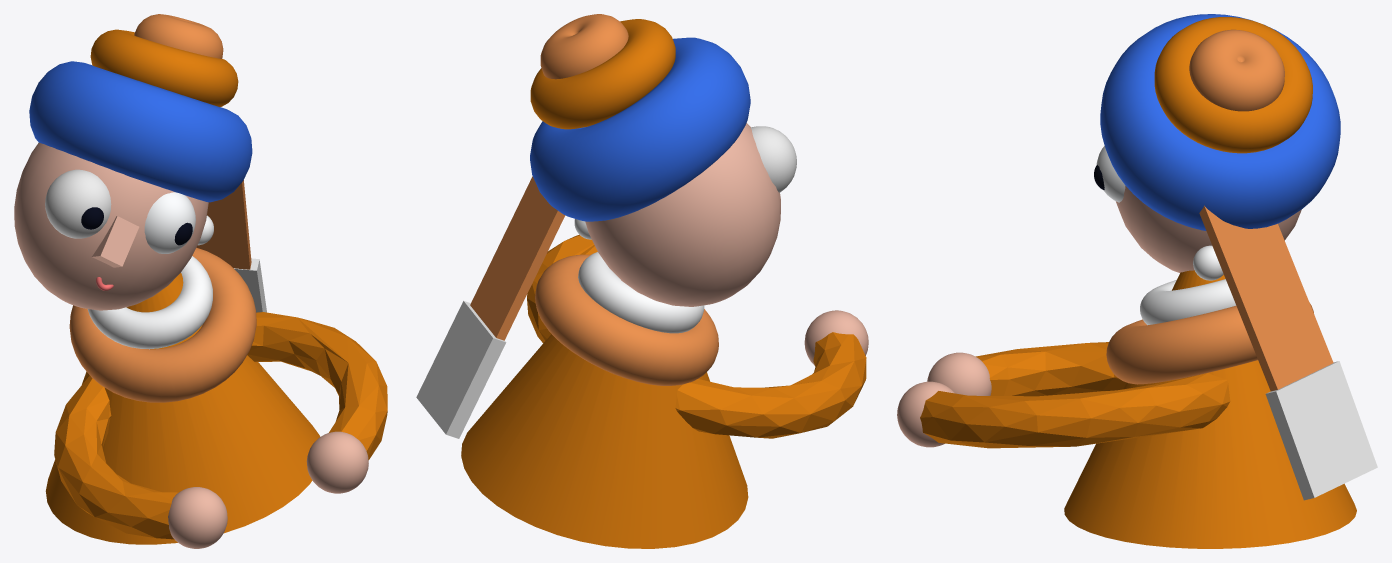
File: girl3.glb
The picture shows the model from 3 angles, left to right: view 1: azimuth 30°, elevation 25°; view 2: azimuth 150°, elevation 25°; view 3: azimuth 270°, elevation 25°; orthographic projection. The views are drawn at different scales.
Parts seen in each view (by area): view 1: 锥体, 环体.005, 环体.003, 球体, 环体.014, 环体.001, 环体.002, 球体.002, 球体.007, 球体.006, 立方体.001, 环体.012 (+3 smaller); view 2: 锥体, 环体.005, 球体, 环体.003, 环体.014, 环体.001, 立方体.001, 立方体.002, 环体.002, 环体.012, 球体.002, 球体.006; view 3: 锥体, 环体.005, 环体.003, 立方体.001, 环体.001, 立方体.002, 环体.014, 环体.012, 球体, 环体.002, 球体.006, 球体.007 (+2 smaller).
Part boxes in pixels (<box>): 锥体: <box>45,273,320,544</box>; 环体.005: <box>29,61,252,202</box>; 环体.003: <box>54,312,387,539</box>; 球体: <box>14,142,208,310</box>; 环体.014: <box>69,247,256,402</box>; 环体.001: <box>90,29,238,106</box>; 环体.002: <box>87,256,212,349</box>; 球体.002: <box>45,169,111,238</box>; 球体.007: <box>306,431,368,493</box>; 球体.006: <box>168,487,227,548</box>; 立方体.001: <box>196,180,251,269</box>; 环体.012: <box>134,14,223,58</box>; 锥体: <box>461,334,748,548</box>; 环体.005: <box>530,37,750,221</box>; 球体: <box>585,123,780,306</box>; 环体.003: <box>527,234,866,438</box>; 环体.014: <box>535,254,718,385</box>; 环体.001: <box>530,19,675,129</box>; 立方体.001: <box>470,176,565,340</box>; 立方体.002: <box>416,301,506,438</box>; 环体.002: <box>578,252,704,333</box>; 环体.012: <box>540,14,628,79</box>; 球体.002: <box>751,126,796,192</box>; 球体.006: <box>804,310,868,365</box>; 锥体: <box>1064,270,1356,548</box>; 环体.005: <box>1100,14,1340,230</box>; 环体.003: <box>920,342,1230,448</box>; 立方体.001: <box>1199,205,1333,391</box>; 环体.001: <box>1154,17,1312,153</box>; 立方体.002: <box>1265,361,1377,500</box>; 环体.014: <box>1106,302,1313,384</box>; 环体.012: <box>1189,29,1284,111</box>; 球体: <box>1116,186,1301,272</box>; 环体.002: <box>1140,279,1236,325</box>; 球体.006: <box>927,352,991,395</box>; 球体.007: <box>897,381,954,447</box>.
Size of the model in its own units: 3.59 by 5.34 by 4.67.
